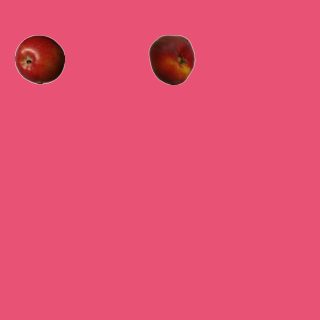Apple Braeburn: (14, 34, 64, 84)
Nectarine Flat: (146, 34, 196, 84)
